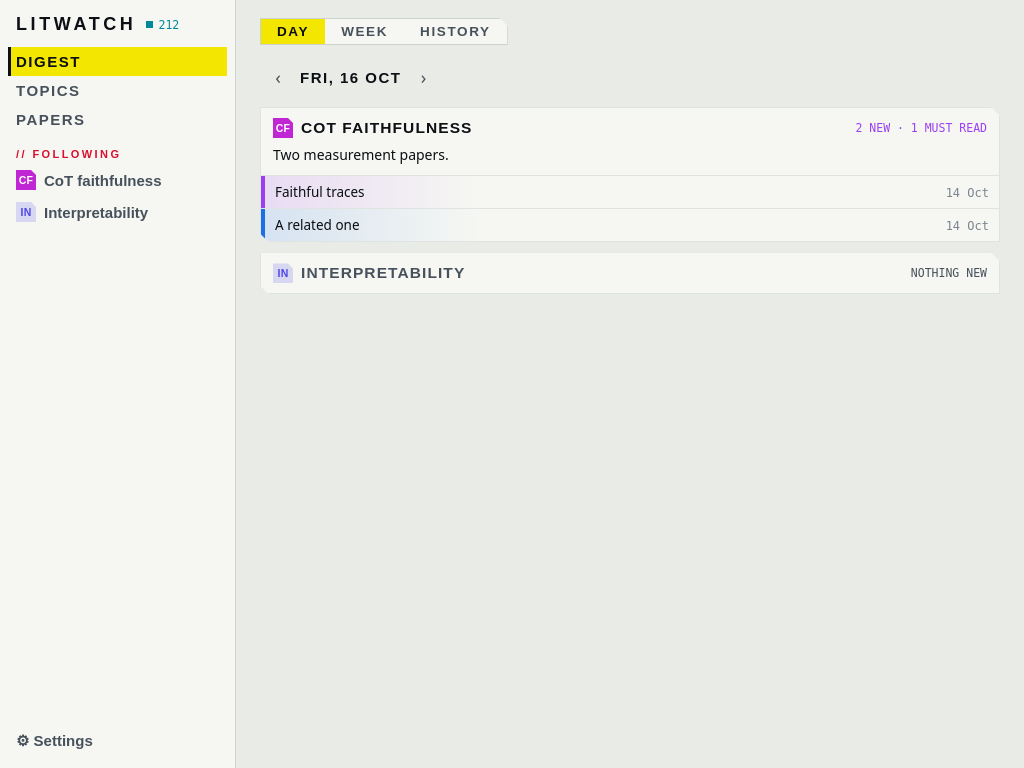
Scenario: the Digest › steps from the last day with digests to an empty today, where today's run stands in place of the cards
Click the link named "Newer" at (424, 77), box [421,65,426,89]
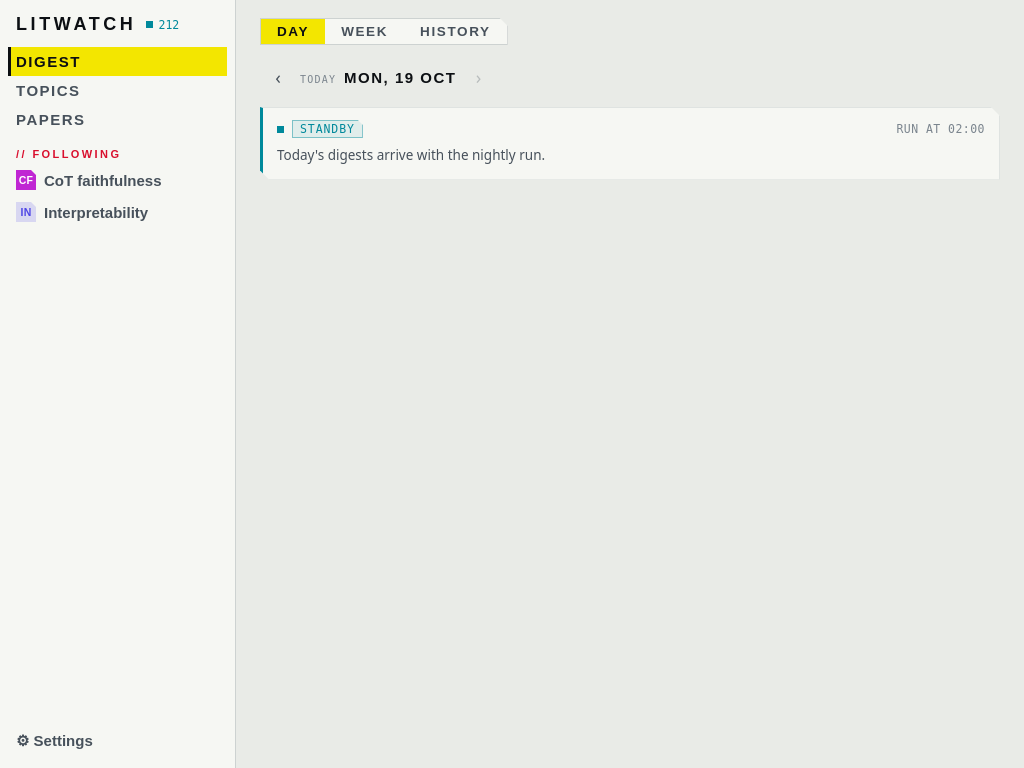
Now the text "Standby" is shown, box [292,120,363,138]
Now the text "run at 02:00" is shown, box [896,122,985,136]
Now the text "Today" is shown, box [300,74,336,84]
